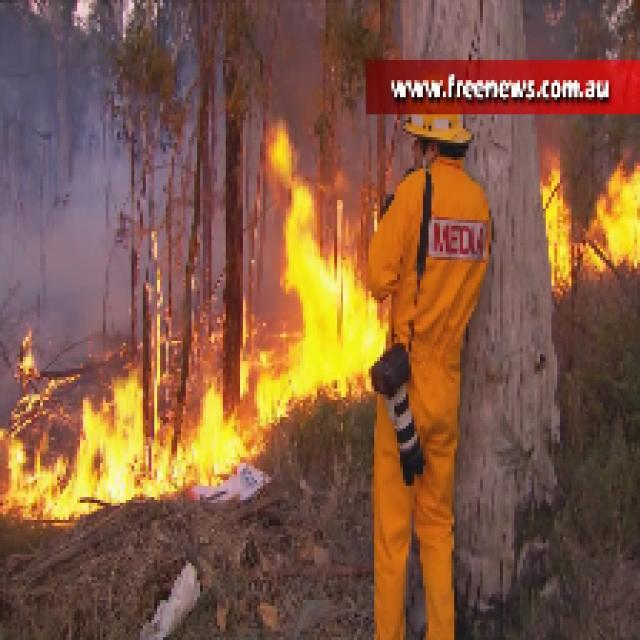Fire: (260, 128, 357, 418), (3, 377, 174, 520), (191, 388, 243, 466), (602, 160, 638, 263)
Smoke: (34, 154, 117, 337)
